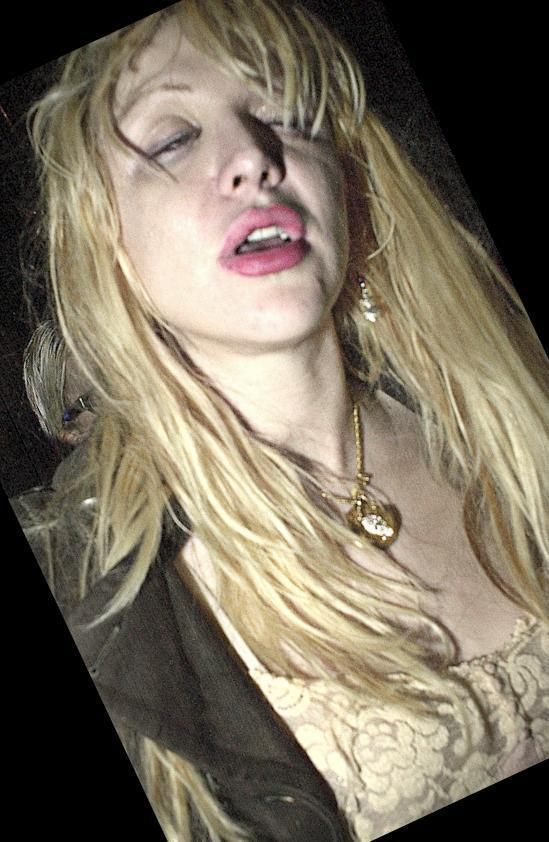Drunk: (119, 42, 342, 343)
